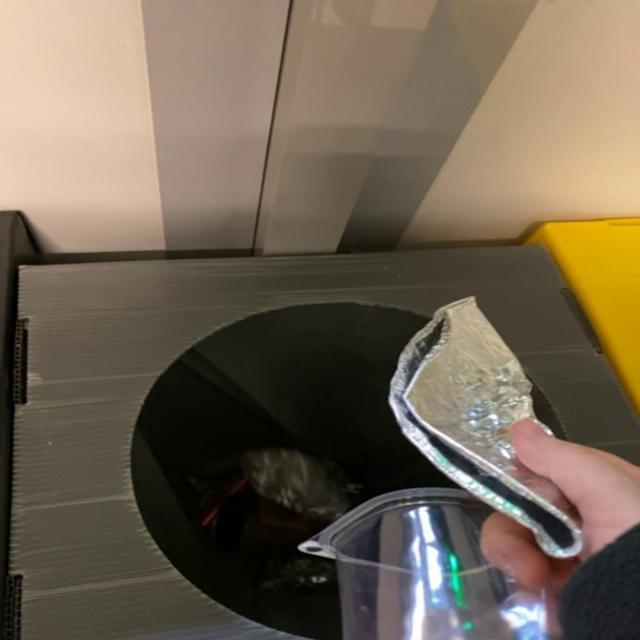Bin: (8, 246, 639, 640)
Metal: (391, 297, 584, 559), (242, 449, 350, 521)
